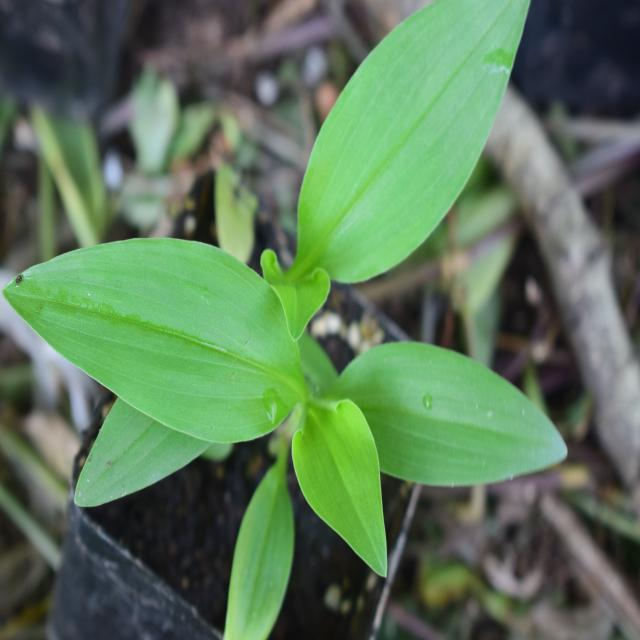Common Dayflower: (0, 220, 567, 596), (280, 0, 544, 212)
